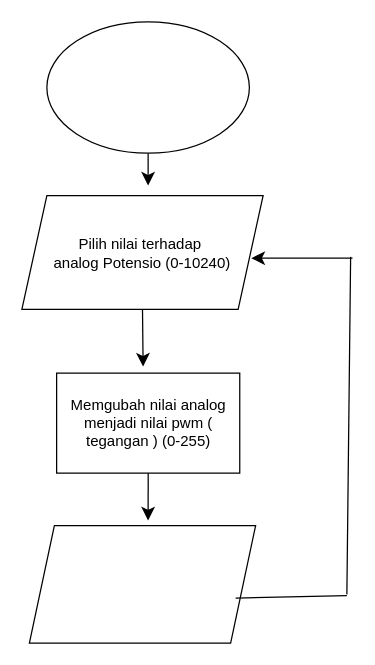
The diagram is 375 pixels wide and 665 high, and some of its shapes have lost their labels. The shapes that lost their labels are listed below. From the top down, each one's box as (x1, y1, x2, y2) in pixels, then its label:
(46, 21, 249, 153): START
(28, 524, 256, 643): Menampilkan nilai voltage potensio
